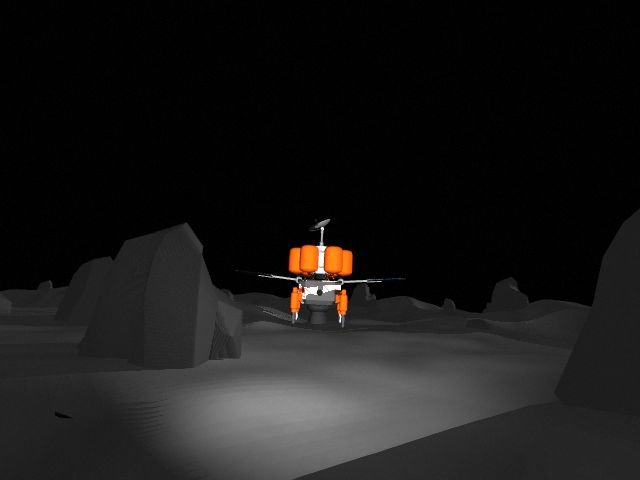homebase: (254, 214, 408, 332)
